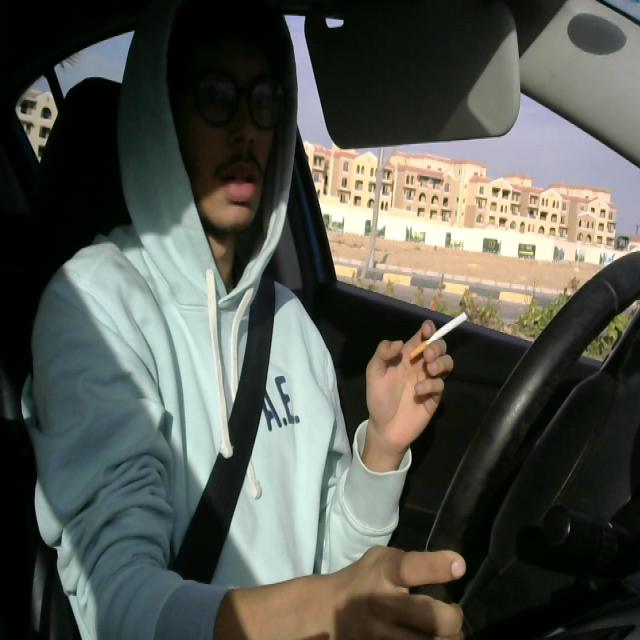smoking: (405, 308, 475, 369)
